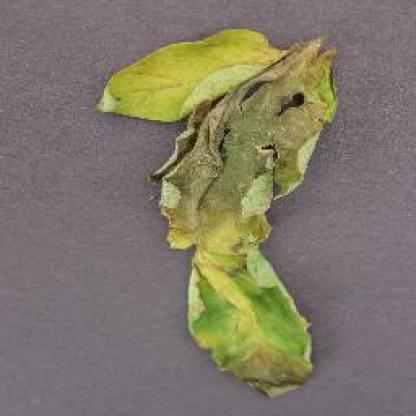bad leaf: (69, 7, 383, 413)
